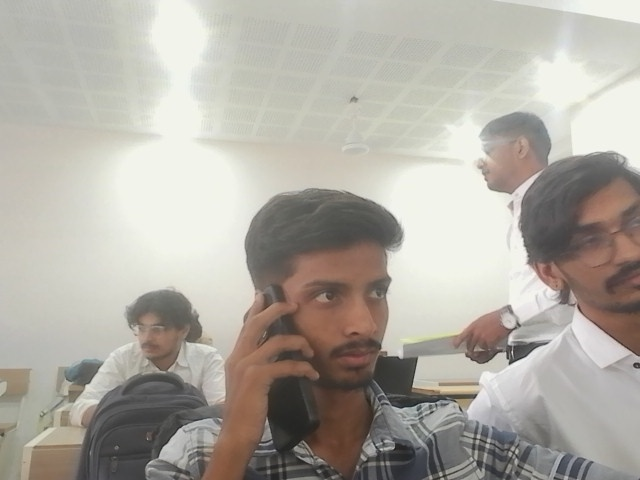fan_on: (339, 94, 369, 155)
light_on: (146, 13, 206, 145), (368, 163, 494, 217), (536, 67, 601, 110)
person: (458, 152, 639, 479), (446, 101, 572, 367), (66, 288, 225, 431)
